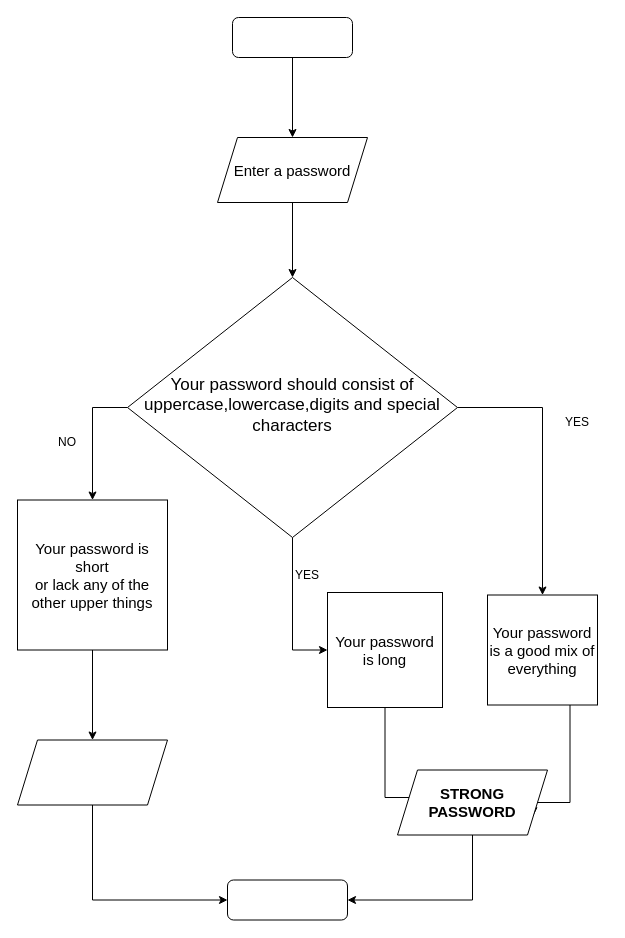
The diagram is 625 pixels wide and 938 high, and some of its shapes have lost their labels. The shapes that lost their labels are listed below. From the top down, each one's box as (x1, y1, x2, y2) in pixels, then its label:
(232, 16, 352, 58): Start
(16, 739, 168, 805): WEAK PASSWORD
(226, 879, 348, 920): END
